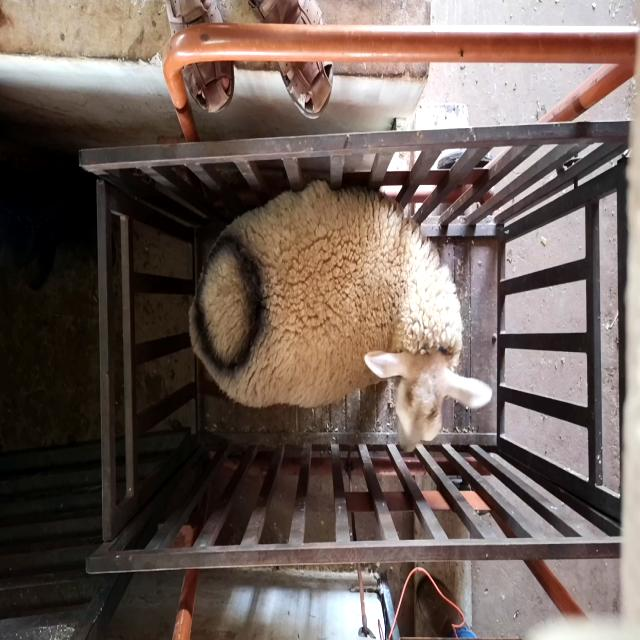sheep: (187, 179, 493, 453)
